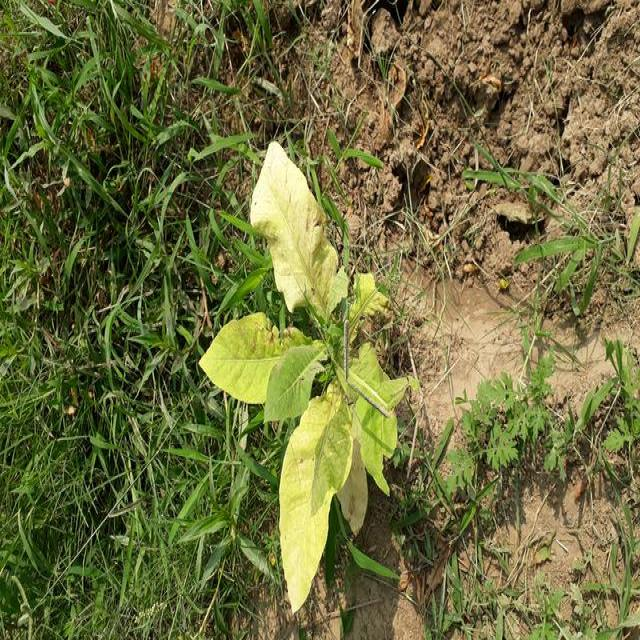crop: (213, 160, 410, 589)
